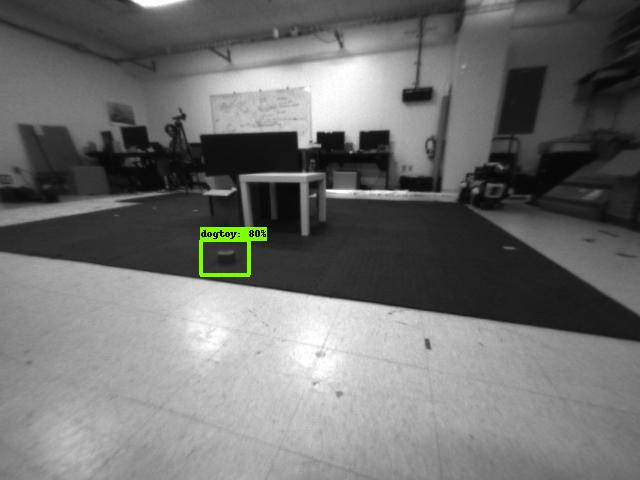dogtoy: (203, 242, 251, 275)
